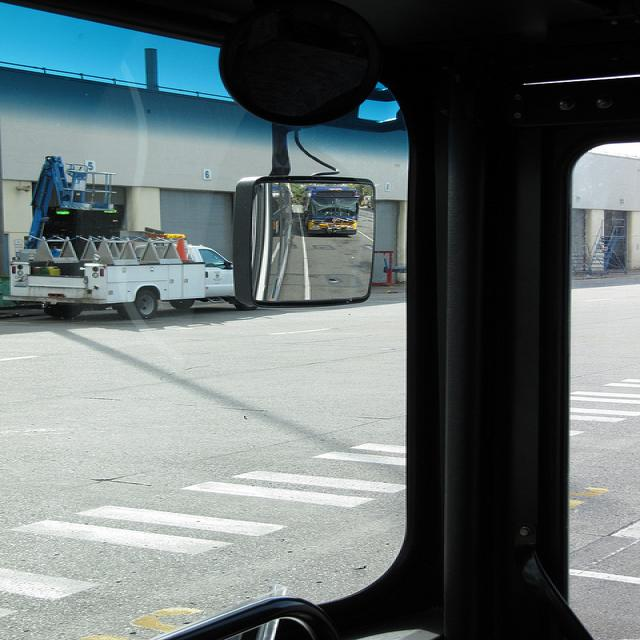Vehicle: (3, 152, 257, 321)
